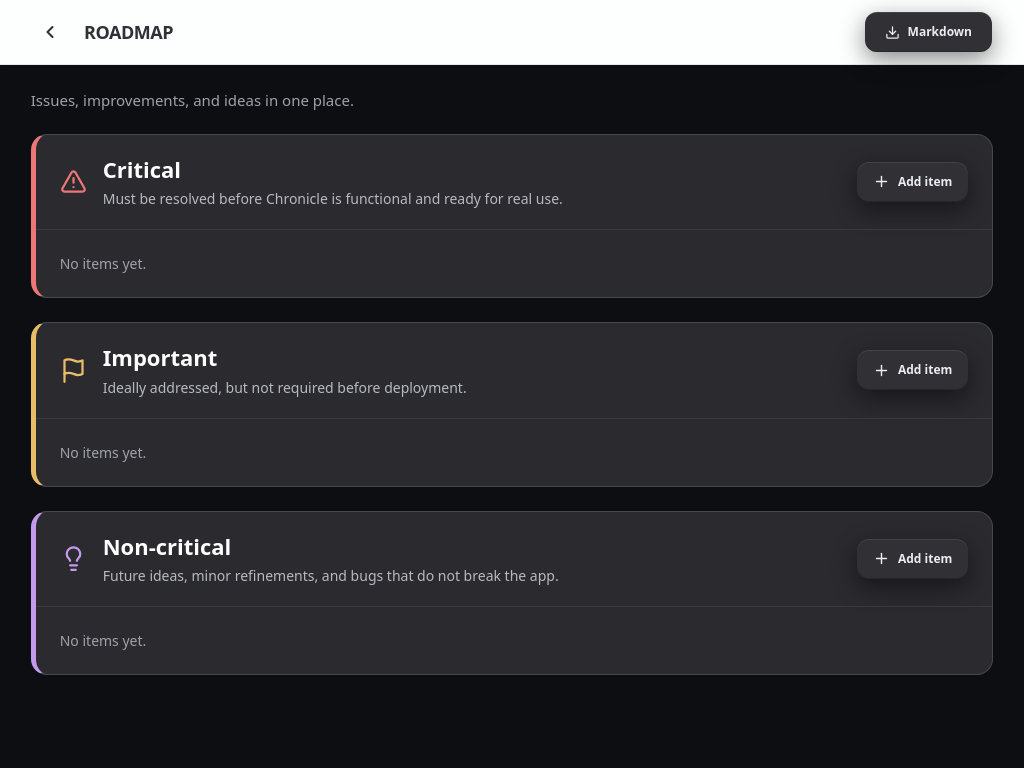
Test: Chronicle Roadmap › starts empty in three ordered sections and saves an addition that survives remount
The image size is (1024, 768).
Later steps or results of the test are not shown.
Expected: the heading "Critical" is shown, [103,154,181,184]
Expected: the text "No items yet." is shown 3 times, [60,254,146,273]; [60,443,146,462]; [60,631,146,650]
Click the button with aria-label "Add item to Critical": (913, 182) [857,162,968,202]
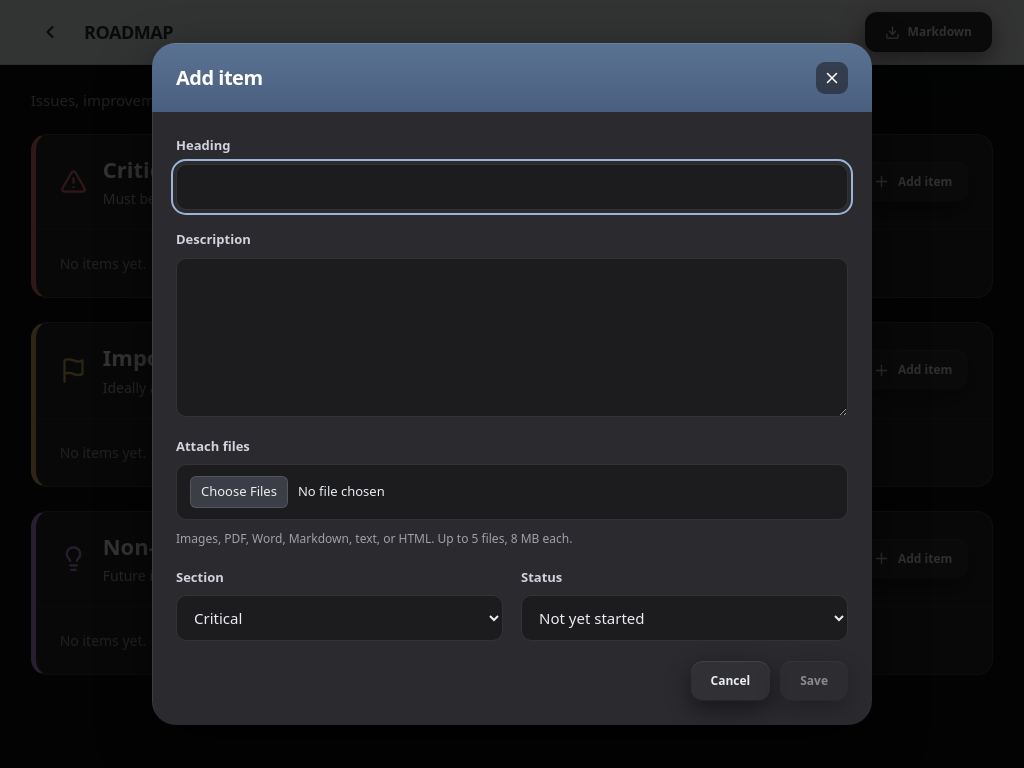
In the field labelled "Heading": (512, 187) [176,164,848,210], type "Fix a save"
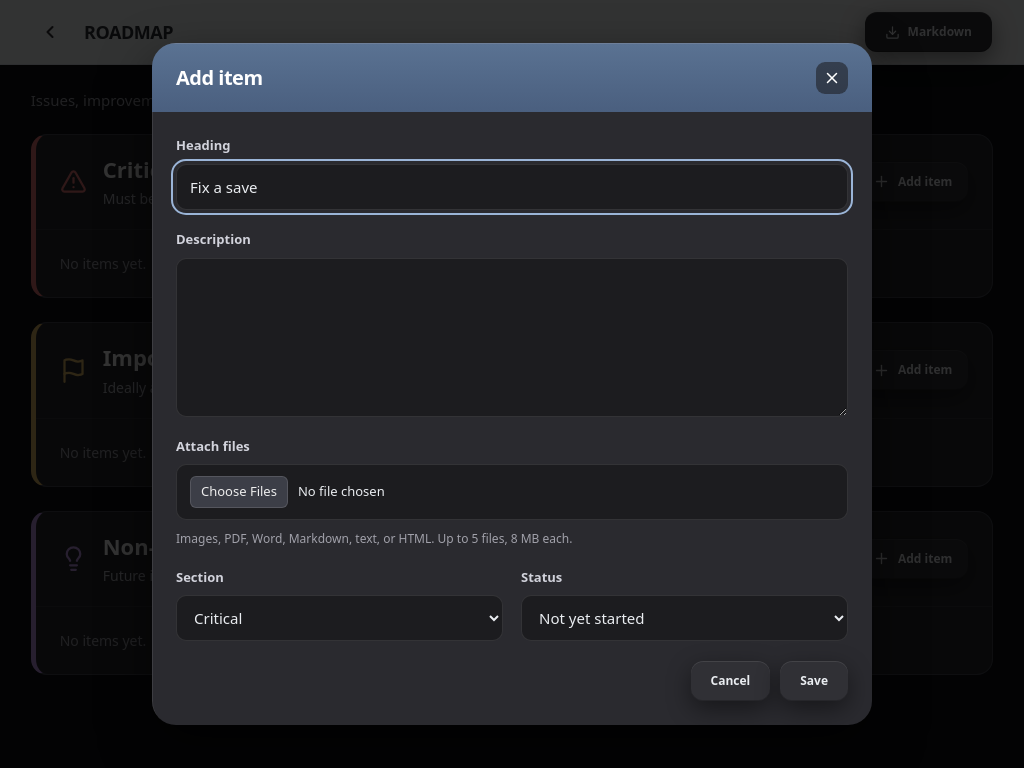
In the text box labelled "Description": (512, 337) [176,258,848,416], type "Keep every note."
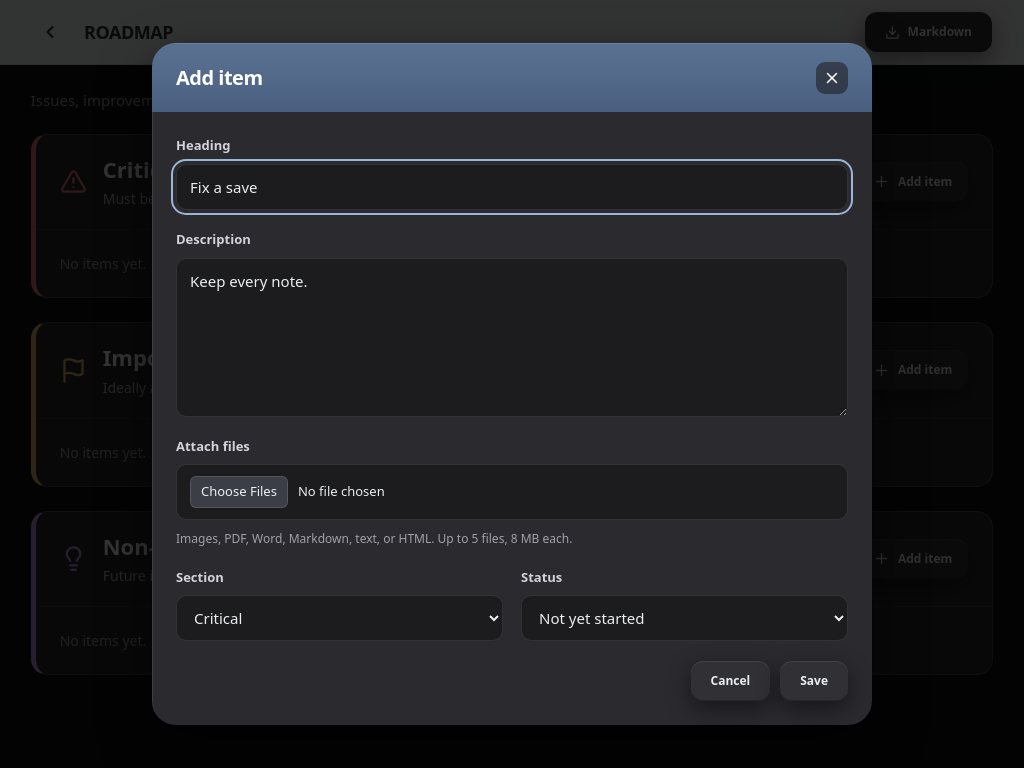
Click the button "Save": (814, 681) [780,661,848,701]
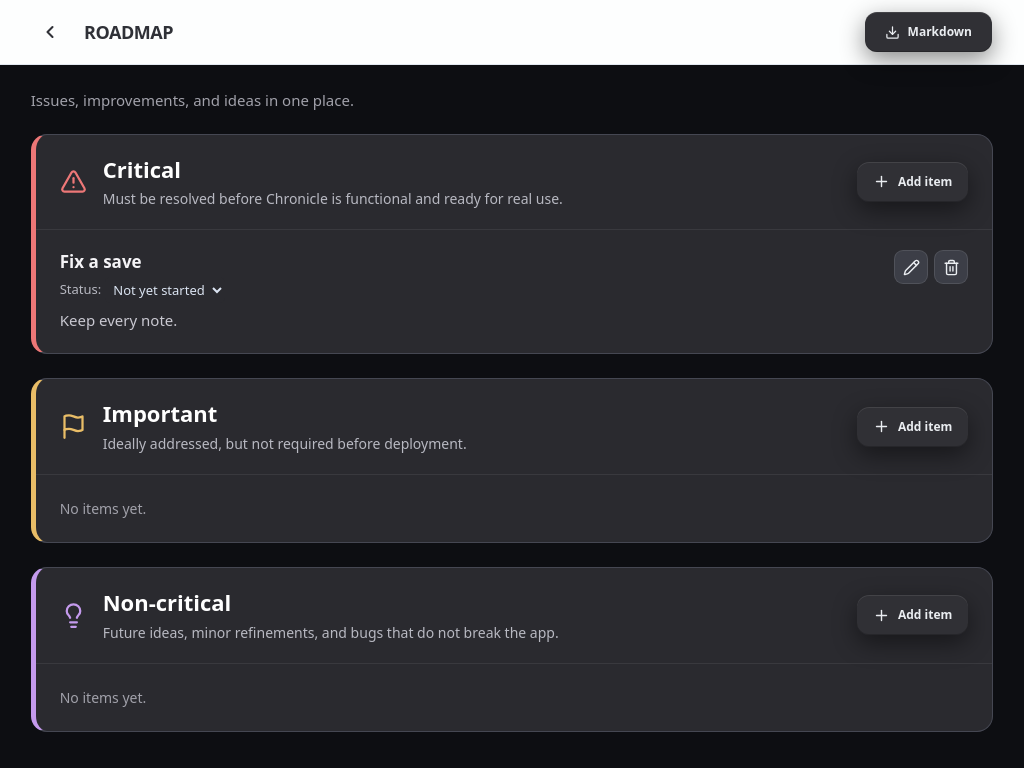
Expected: the dialog is gone
